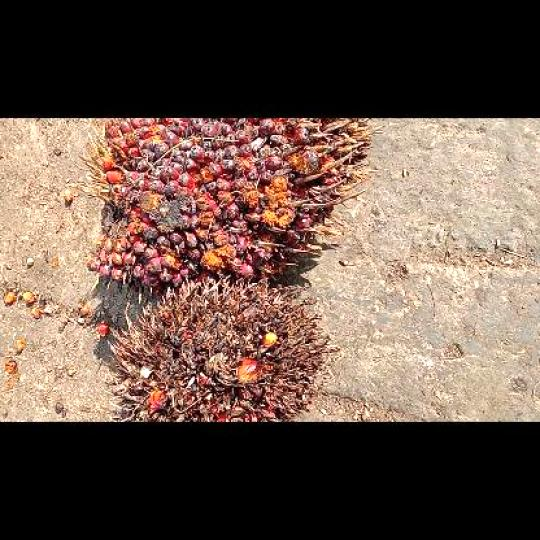masak: (73, 117, 374, 300)
terlalu masak: (111, 276, 338, 420)
